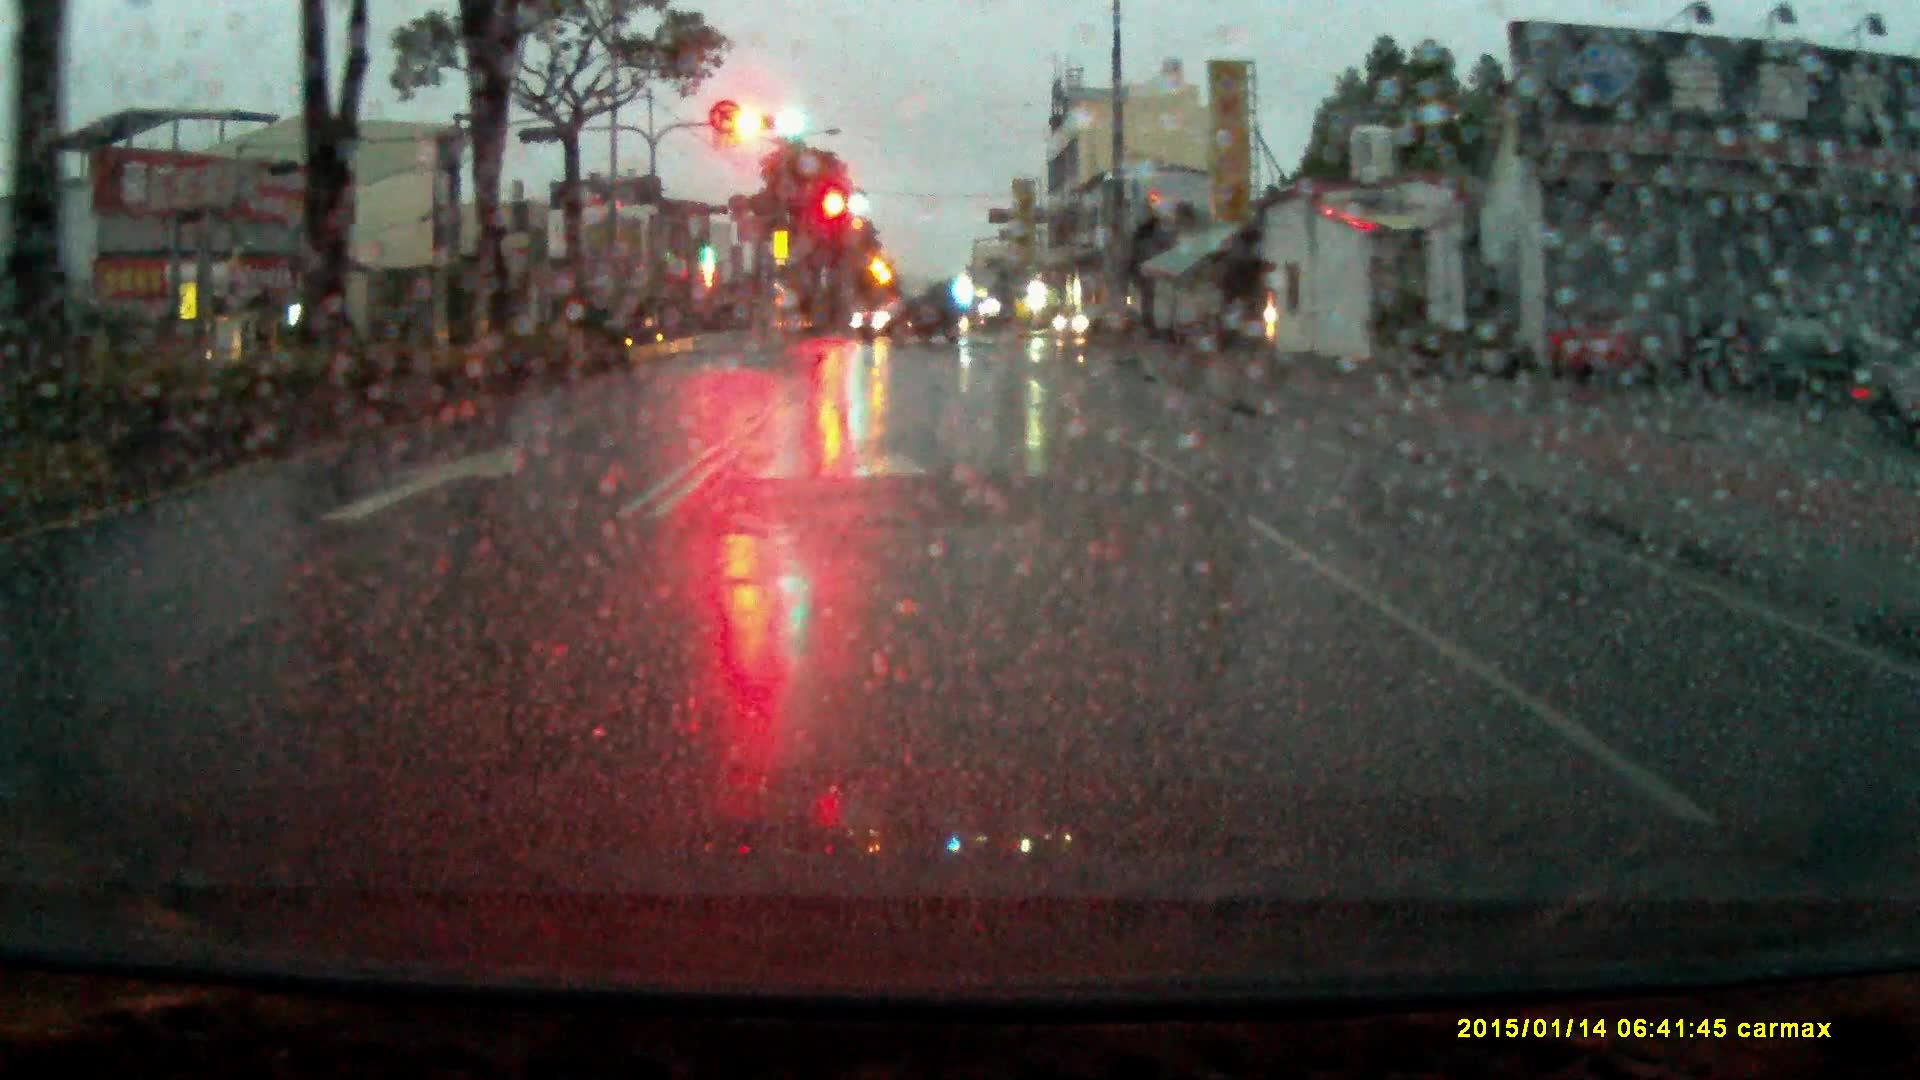vehicle: (852, 287, 967, 351), (1052, 305, 1143, 342)
